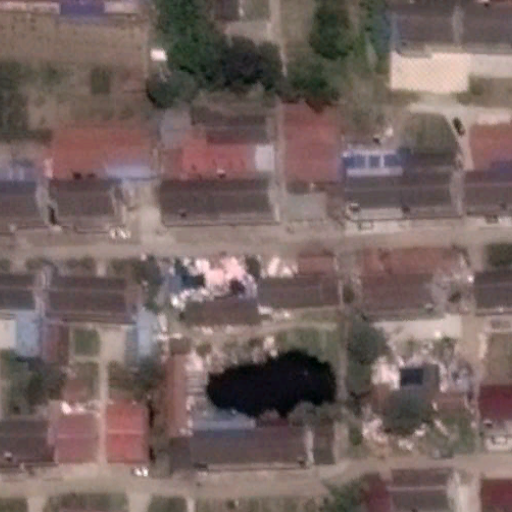msw: (167, 249, 288, 299), (366, 344, 472, 395)
